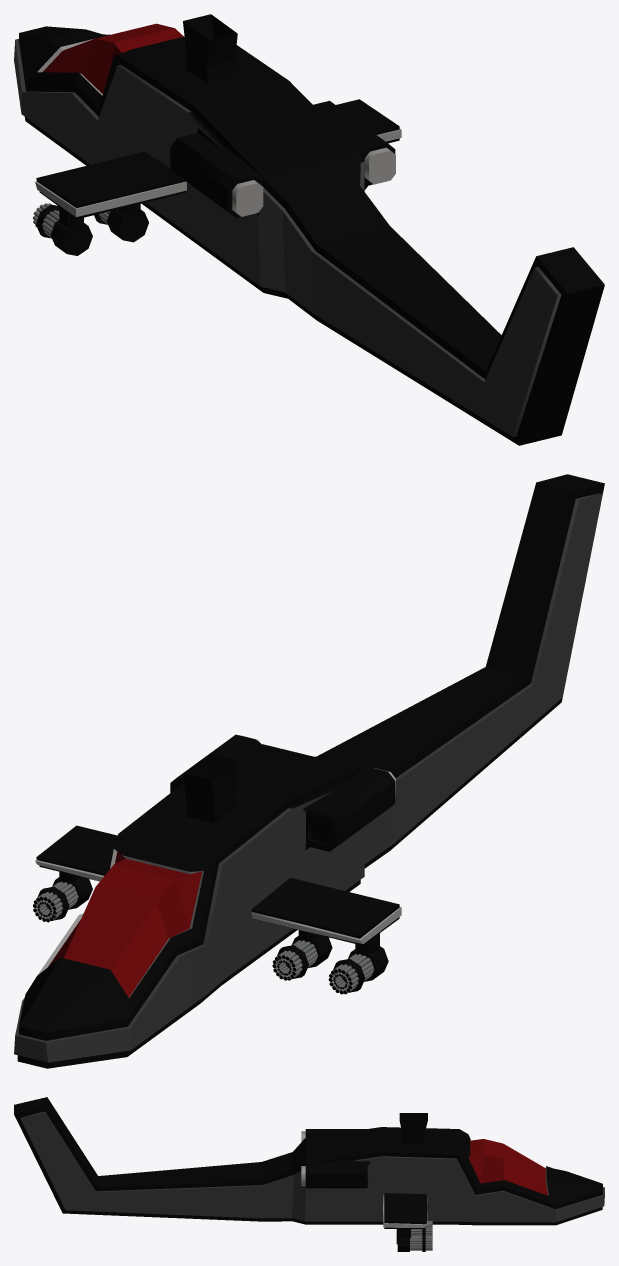
The model's file is EnemyApacheBody.fbx.
The picture shows the model from 3 angles, top to bottom: view 1: azimuth 30°, elevation 25°; view 2: azimuth 150°, elevation 25°; view 3: azimuth 270°, elevation 25°; orthographic projection. The views are drawn at different scales.
Parts seen in each view (by area): view 1: Cube; view 2: Cube; view 3: Cube.
Boxes of the visible parts, left/top/right/bottom form: Cube: left=14, top=14, right=604, bottom=445; Cube: left=14, top=474, right=604, bottom=1068; Cube: left=14, top=1097, right=604, bottom=1251.
Bounding box in the file's own units: 357 × 219 × 1052.
1 material, 1 textured.
